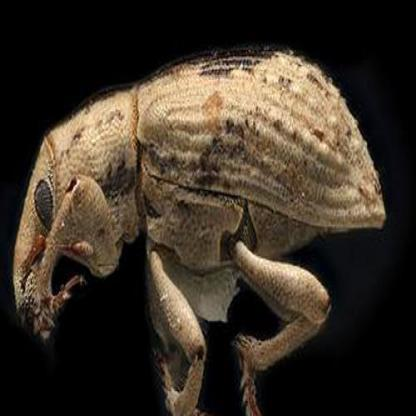rice-bug: (12, 48, 388, 382)
